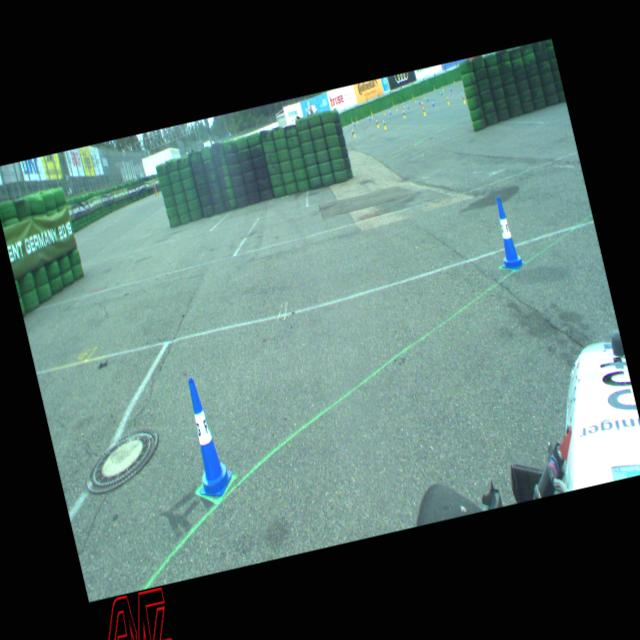blue_cone: (174, 374, 237, 500), (485, 194, 525, 272), (459, 88, 464, 97), (366, 113, 371, 121), (350, 126, 354, 136), (430, 98, 434, 106), (417, 98, 421, 105), (388, 108, 392, 114), (406, 102, 409, 110), (402, 108, 405, 116), (439, 88, 442, 95), (425, 95, 428, 102), (449, 86, 452, 92), (352, 120, 355, 126), (376, 115, 378, 124)
orange_cone: (419, 98, 424, 106)
yellow_cone: (421, 105, 426, 116), (382, 118, 386, 130), (352, 127, 356, 137), (462, 95, 466, 104), (402, 109, 406, 118), (375, 119, 379, 128), (446, 96, 450, 104), (394, 104, 398, 111), (382, 108, 385, 116), (355, 116, 358, 123), (370, 112, 373, 119), (441, 86, 444, 92), (350, 118, 353, 124), (414, 96, 416, 103), (422, 92, 424, 99), (402, 102, 404, 108), (370, 110, 372, 116), (412, 93, 414, 99), (392, 101, 394, 106), (433, 86, 435, 90), (453, 78, 455, 82)
